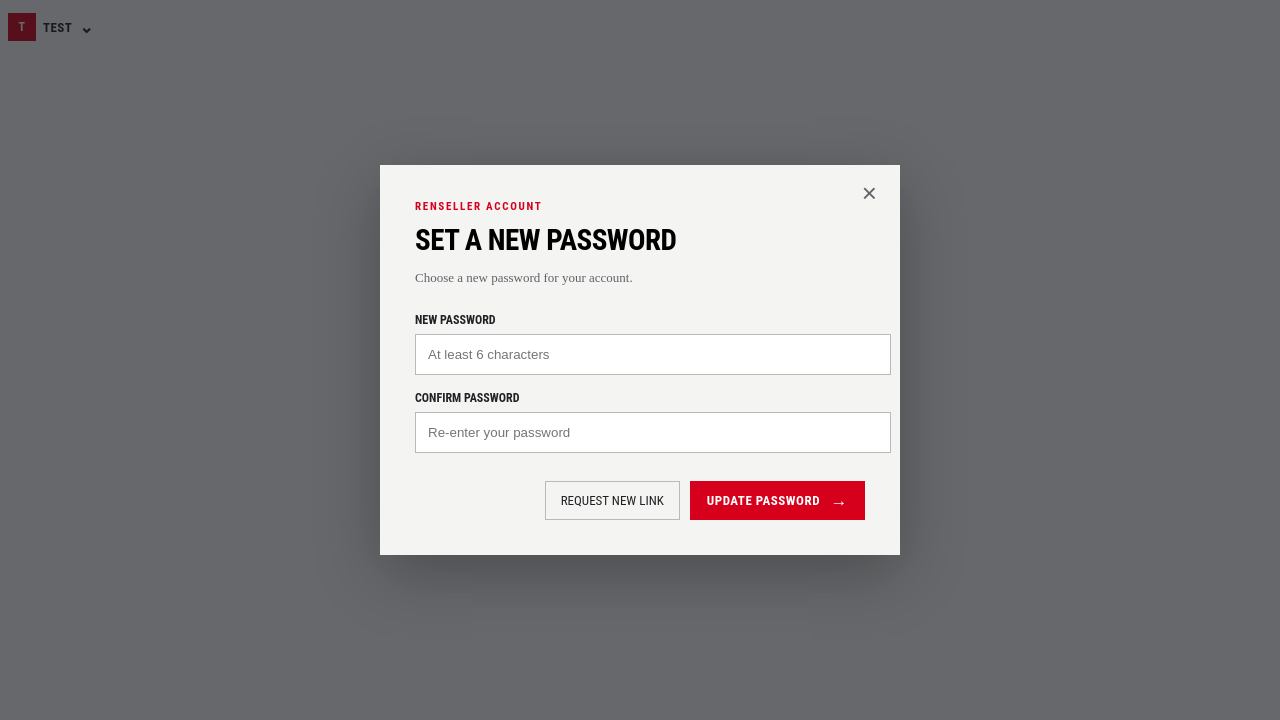
Test: updates a password for a valid recovery session
Expected: the button "Update password →" is enabled, [690, 481, 865, 520]
Type "newsecret" into the password field labelled "New password" at (653, 354), box [415, 334, 891, 375]
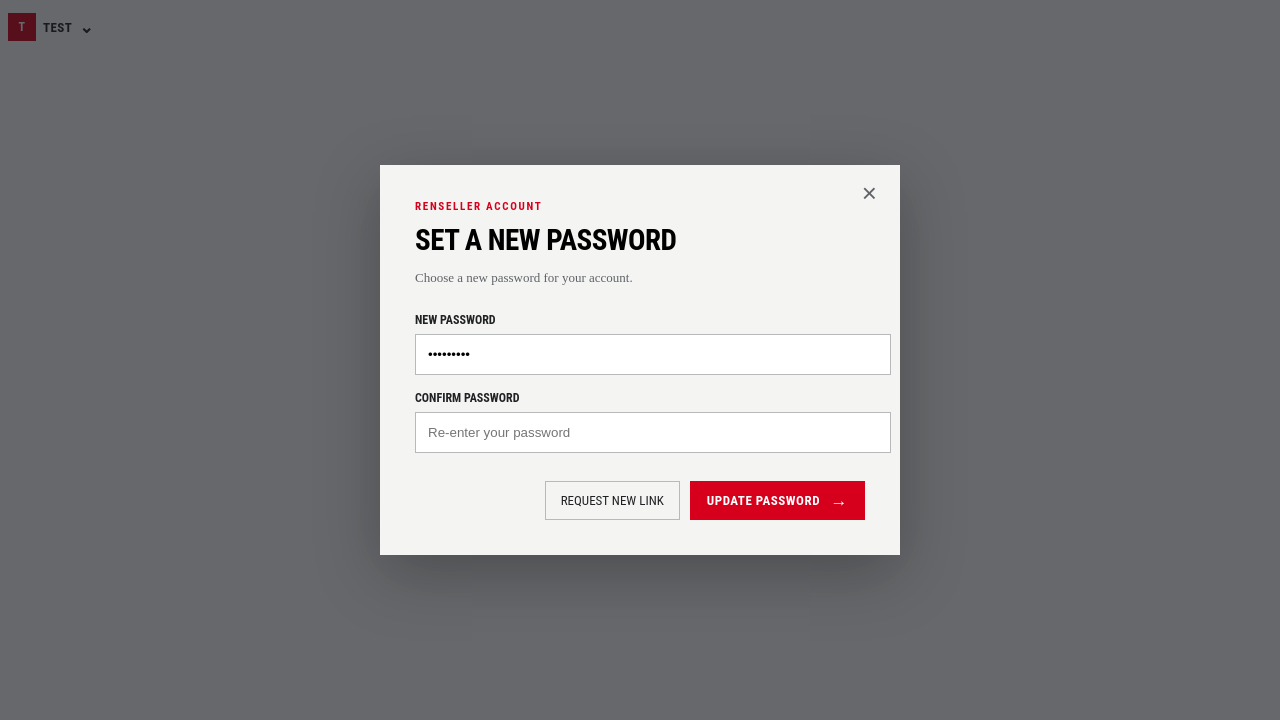
Type "newsecret" into the password field labelled "Confirm password" at (653, 432), box [415, 412, 891, 453]
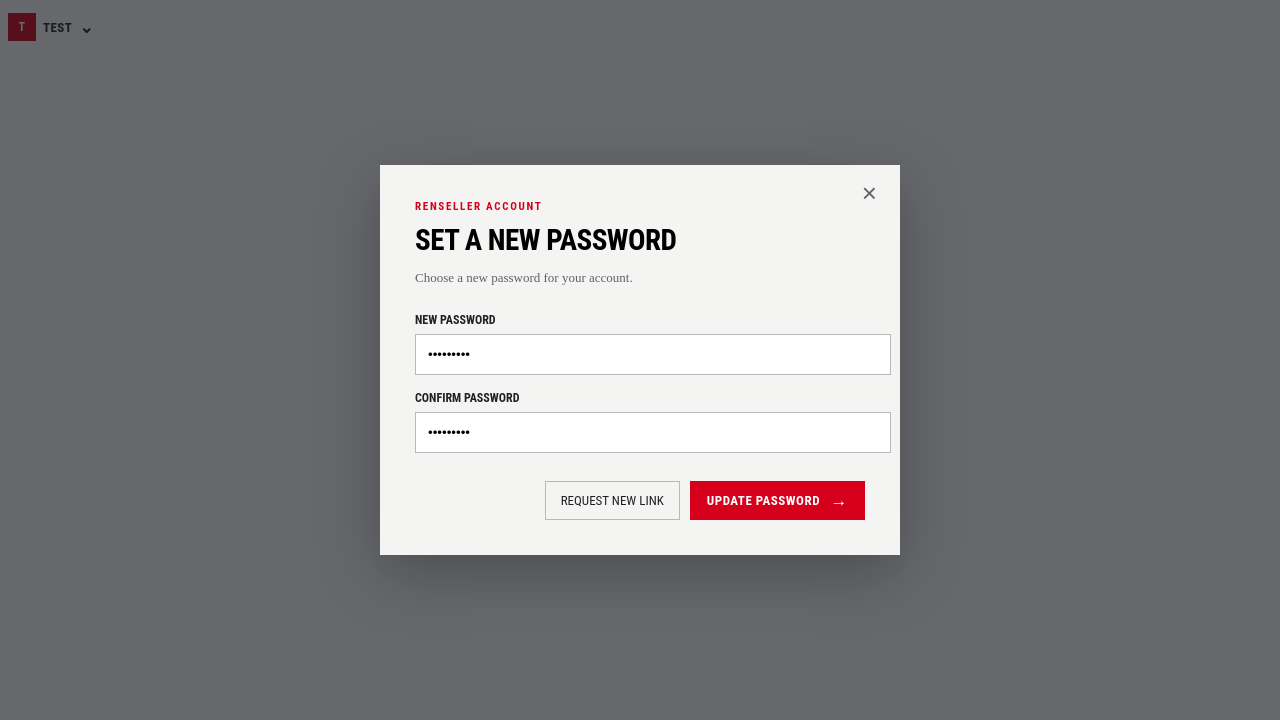
Submit the form, box [415, 313, 865, 520]
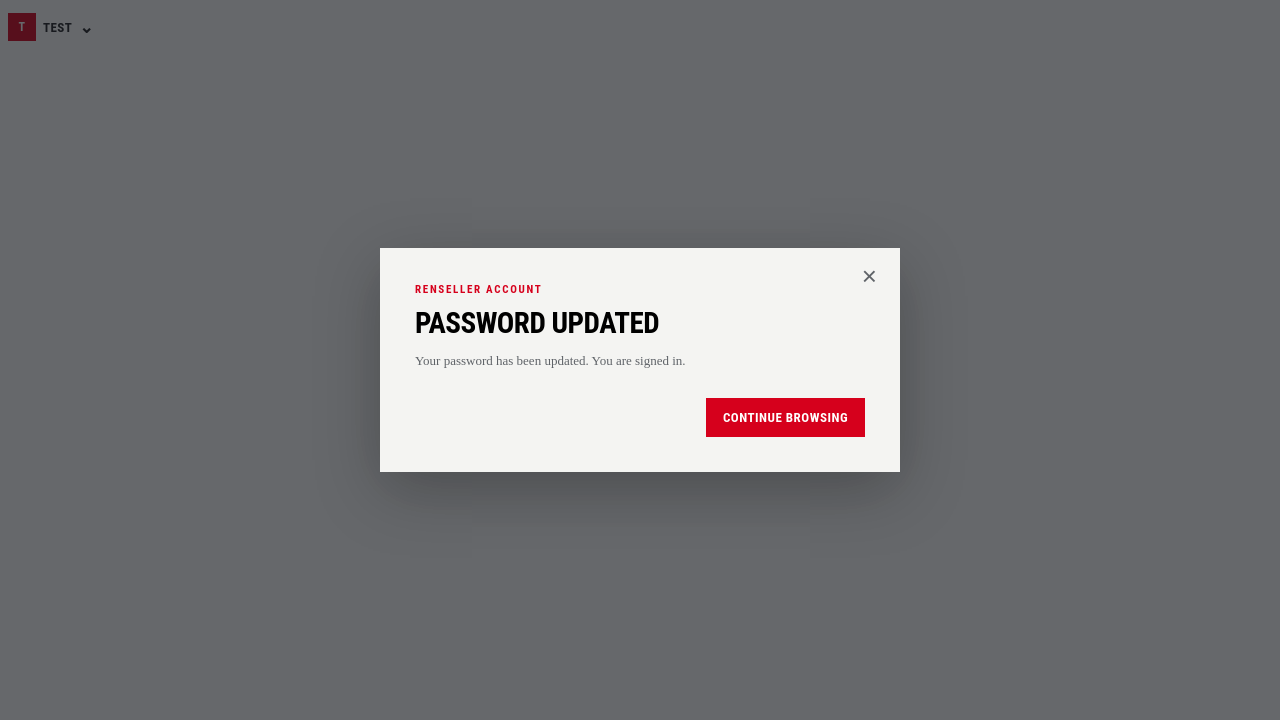
Expected: the heading "Password updated" is shown, [415, 306, 659, 340]
